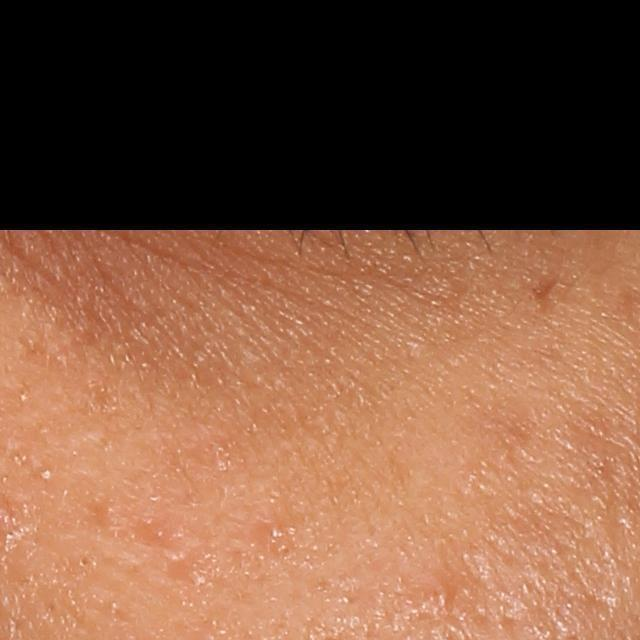comedo: (419, 570, 459, 606), (76, 552, 94, 572), (39, 467, 56, 485)
melasma: (523, 262, 566, 308)
